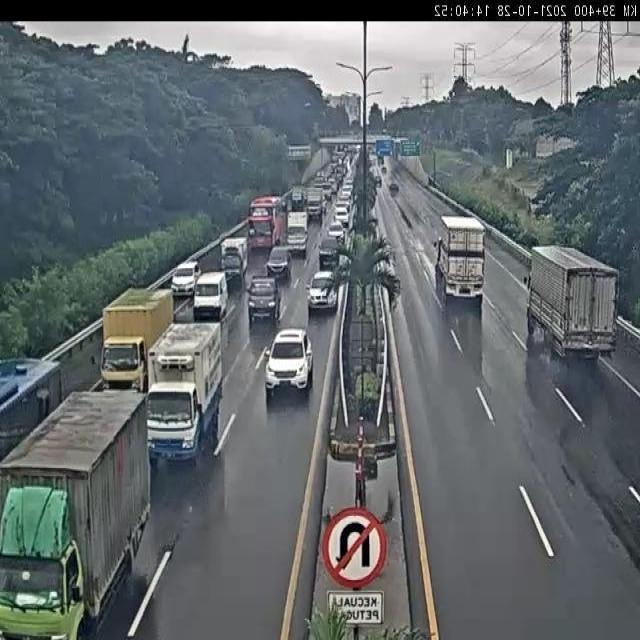Car: (262, 323, 314, 397), (169, 253, 202, 300), (250, 278, 280, 320), (310, 275, 339, 316), (264, 245, 288, 278), (317, 238, 338, 268), (332, 208, 350, 230), (326, 223, 345, 240), (390, 180, 402, 196), (371, 174, 385, 187), (378, 162, 390, 177)
Truck: (0, 379, 147, 640), (146, 318, 223, 466), (524, 243, 619, 359), (102, 288, 174, 389), (0, 358, 61, 463), (436, 216, 486, 304), (247, 195, 286, 251), (220, 237, 249, 284), (284, 210, 308, 256), (305, 190, 324, 222)
Van: (194, 266, 229, 319)
